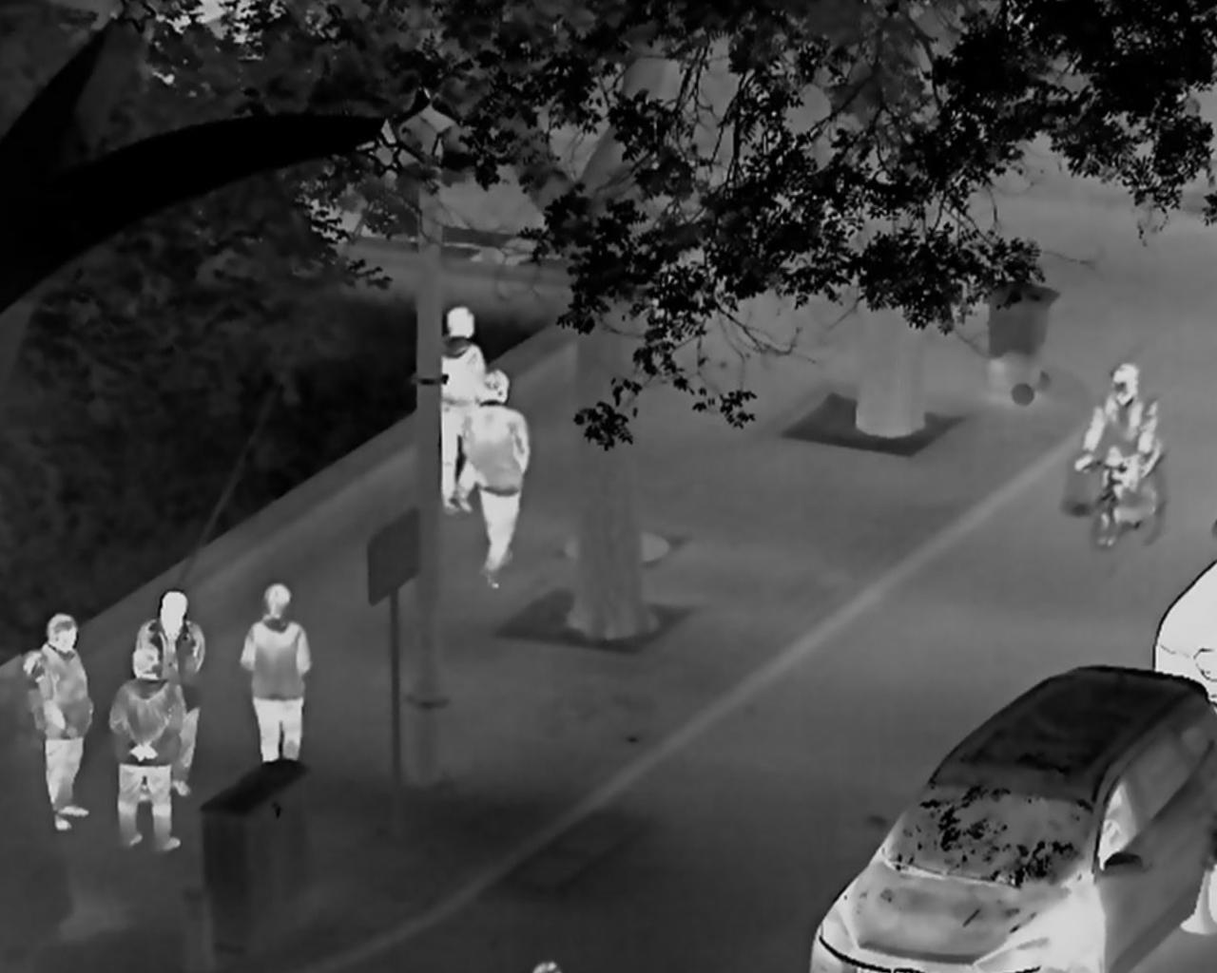person: (461, 370, 532, 592), (108, 649, 183, 852), (1071, 363, 1164, 524), (134, 590, 204, 796), (238, 582, 312, 763), (39, 611, 94, 831), (438, 305, 487, 512), (20, 650, 48, 765)
